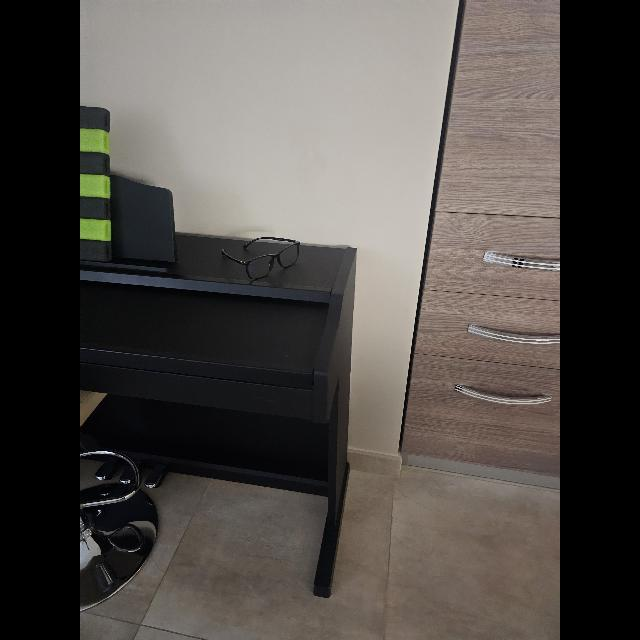glasses: (222, 237, 300, 280)
